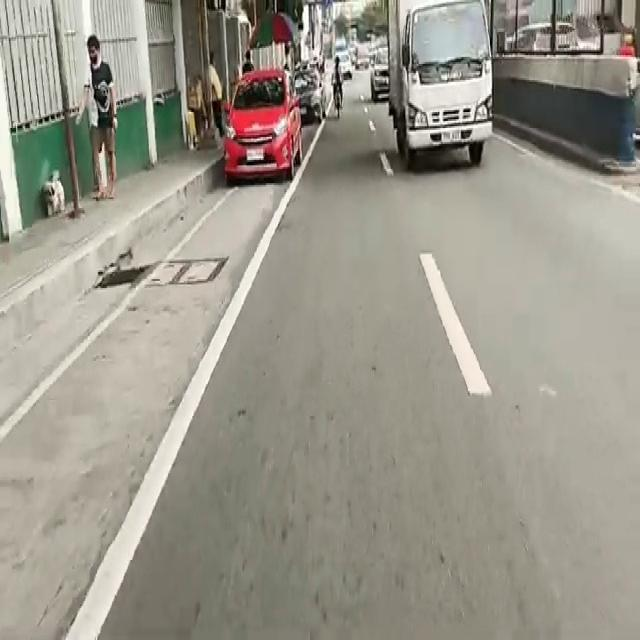car: (226, 68, 300, 184), (293, 69, 325, 128)
truck: (386, 3, 498, 180)
